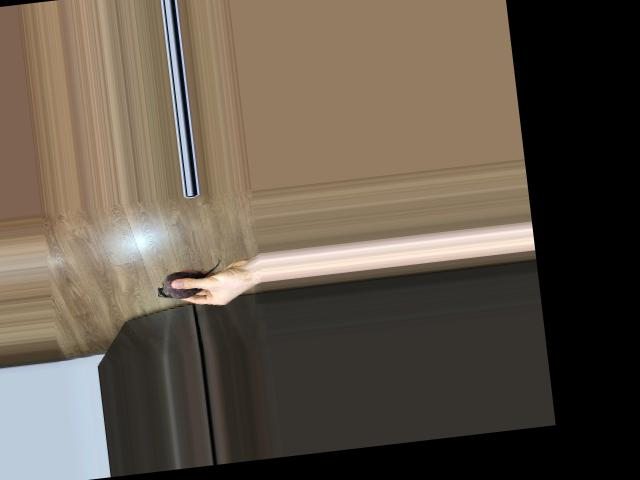beet: (153, 258, 222, 301)
